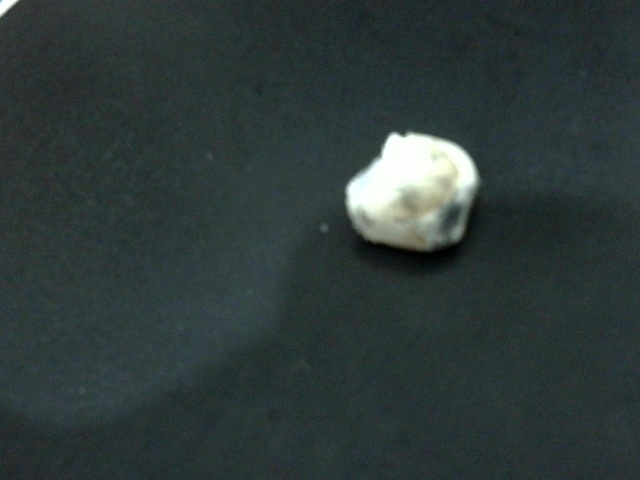eraser: (340, 93, 484, 294)
